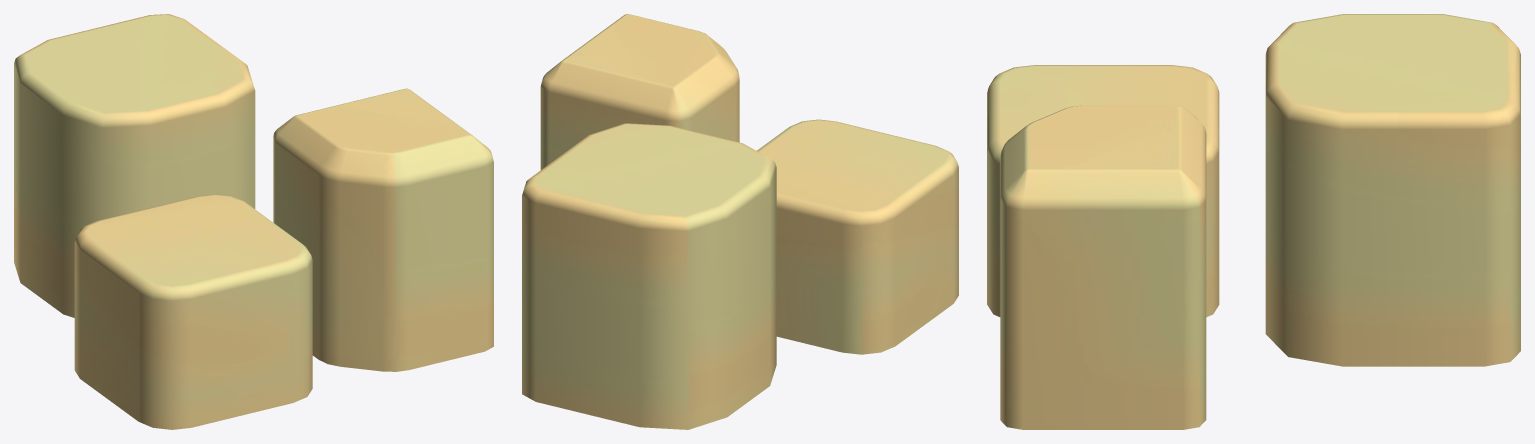
Rendered from rocks.fbx.
3 renders of one model, left to right at view 1: azimuth 30°, elevation 25°; view 2: azimuth 150°, elevation 25°; view 3: azimuth 270°, elevation 25°, orthographic. The views are drawn at different scales.
Visible parts, largest first — view 1: pCube6, pCube7, pCube5; view 2: pCube7, pCube5, pCube6; view 3: pCube7, pCube6, pCube5.
Part boxes in pixels (x1,y1,x2,y2): pCube6: (273,88,493,371); pCube7: (14,14,255,317); pCube5: (74,194,312,429); pCube7: (522,123,776,429); pCube5: (757,119,958,354); pCube6: (540,14,739,169); pCube7: (1265,14,1520,366); pCube6: (1000,105,1206,429); pCube5: (987,65,1219,317).
Size of the model in its own units: 1496 by 857 by 1663.
Materials: 1 (1 with a texture image).
